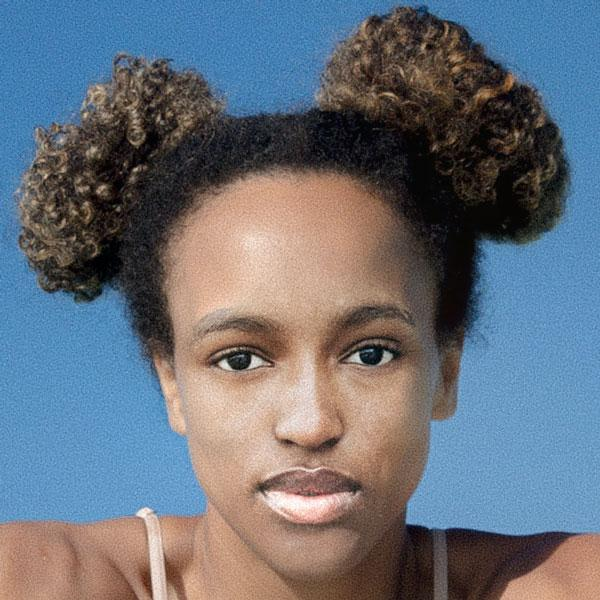Eyes: (328, 328, 414, 378), (197, 335, 284, 384)
